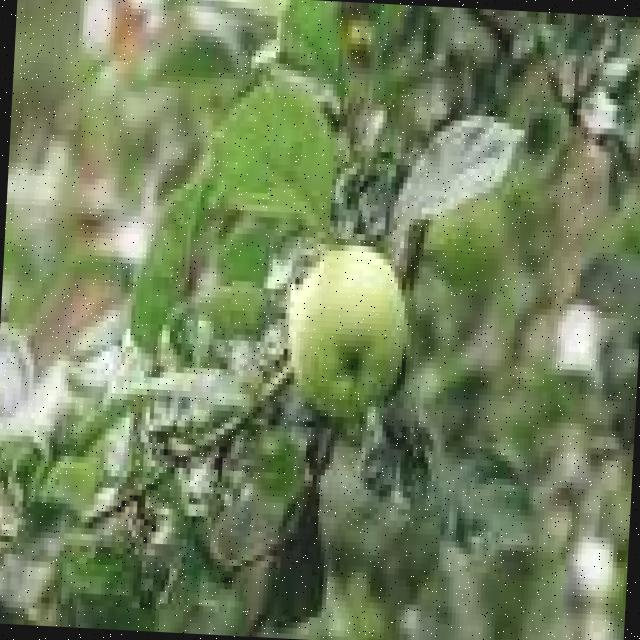Unripe: (284, 238, 414, 421)
